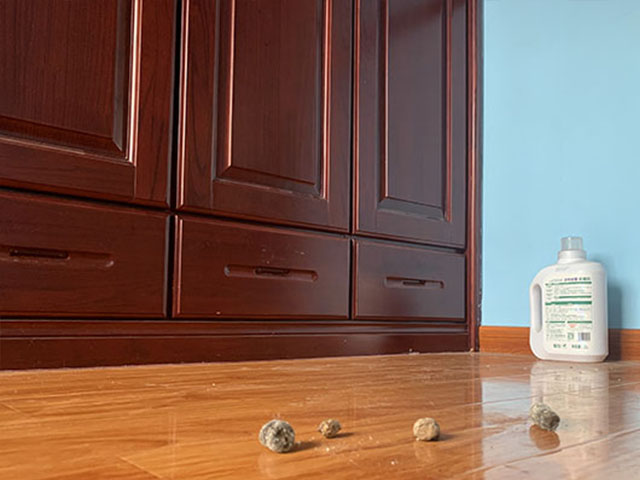cabinet: (1, 1, 488, 372)
feces: (258, 415, 297, 455), (528, 400, 562, 431), (412, 416, 441, 442), (317, 418, 342, 440)
